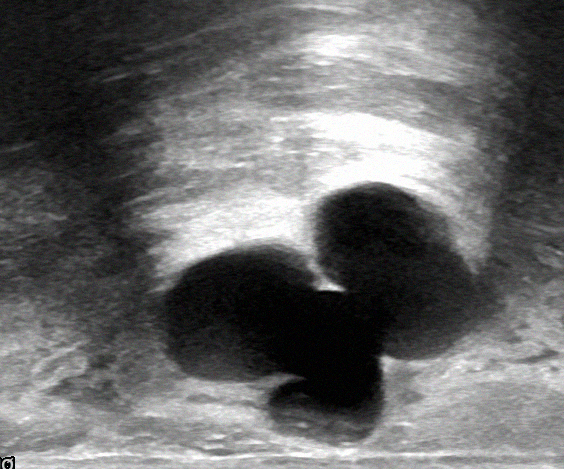Benign: (174, 182, 455, 404)
